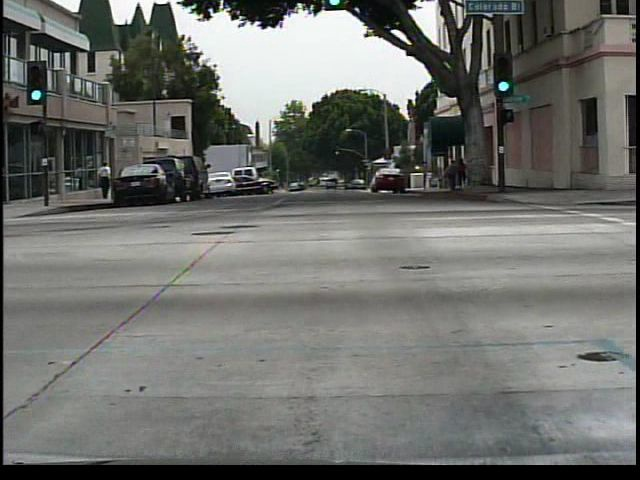person: (453, 152, 477, 200), (98, 154, 113, 204), (442, 159, 460, 193)
